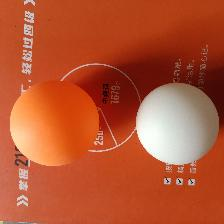WhiteBall: (135, 82, 219, 165)
YellowBall: (8, 79, 98, 166)
